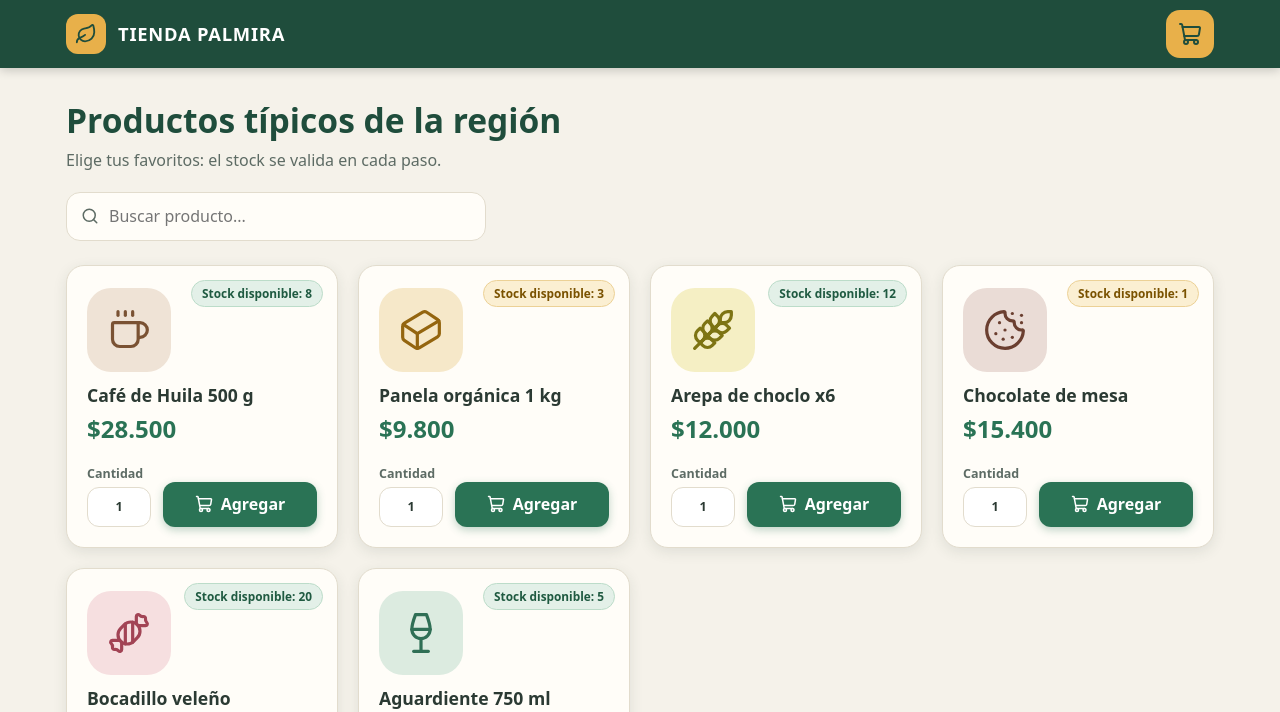
Test case: Reto carrito de compras - casos de prueba del instructor › 8. − con cantidad 1 pide confirmar y al confirmar elimina y recalcula
What coordinates should you click on to do the following:
click the button "Agregar" below "$15.400"
I would click on:
 (1116, 504)
Its box is [1039, 482, 1193, 527].
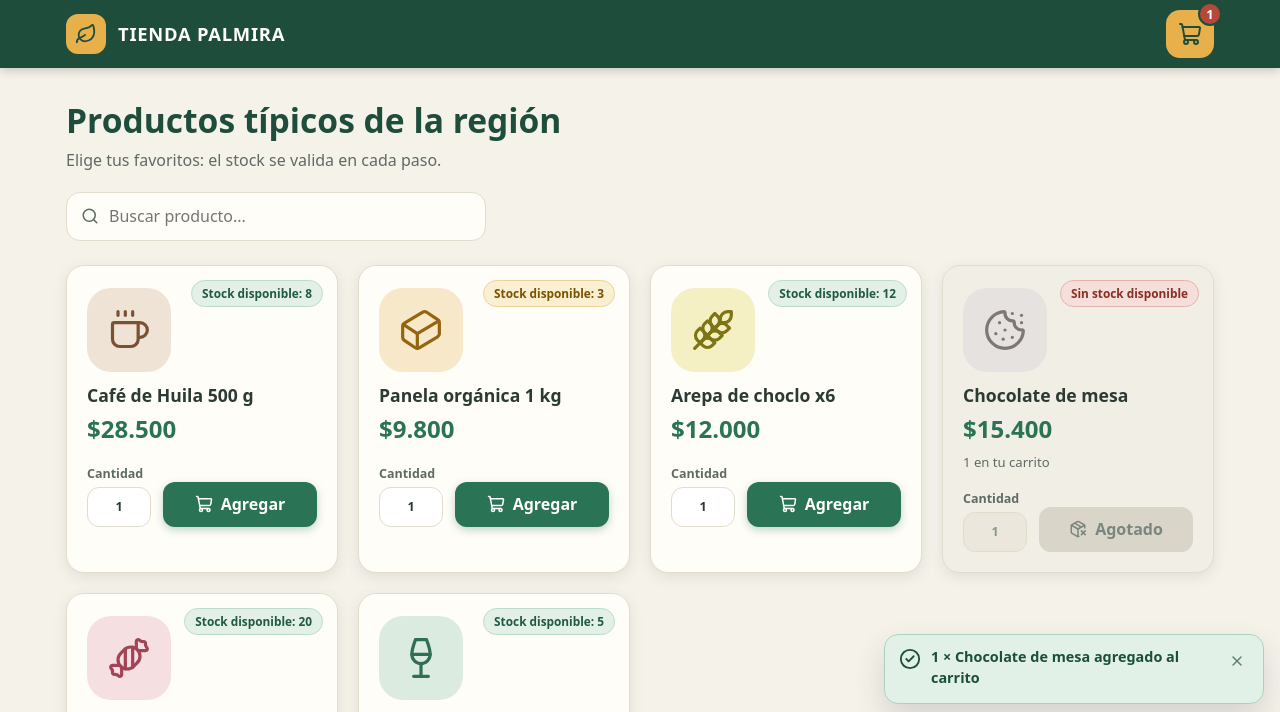
What coordinates should you click on to do the following:
click the button named "abrir carrito"
I would click on:
 (1190, 34)
Its box is [1166, 10, 1214, 58].
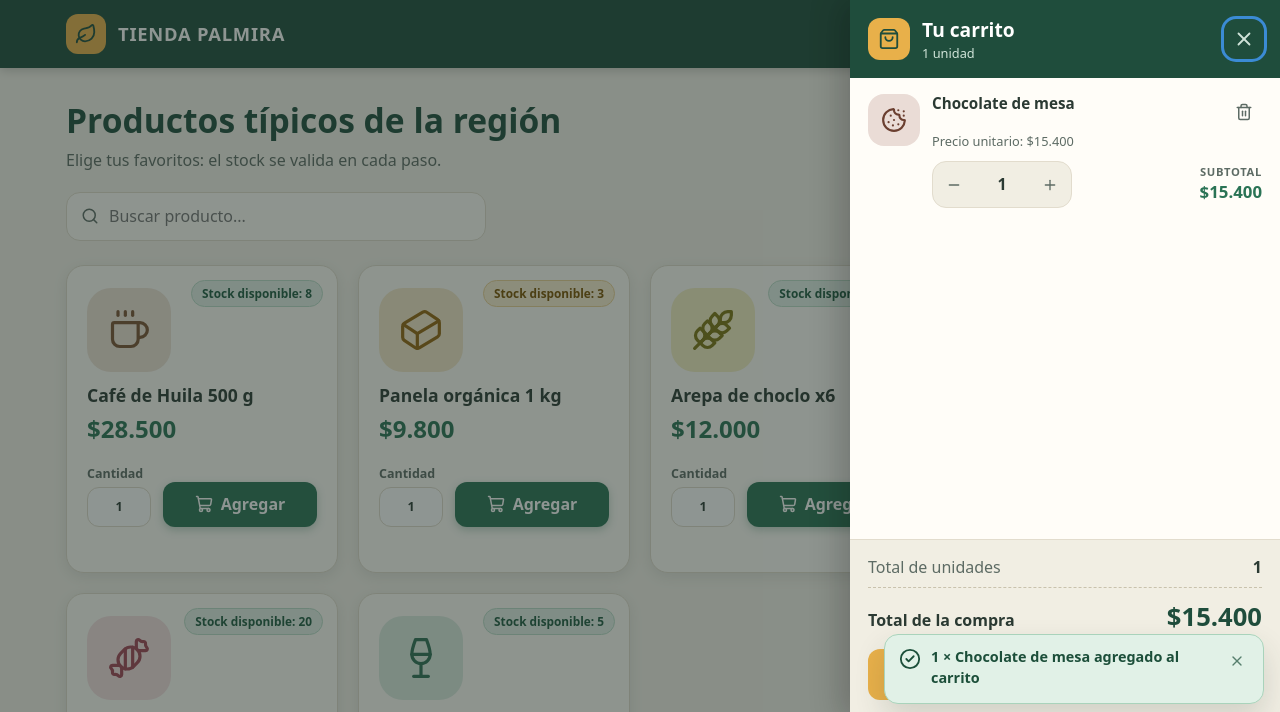
What coordinates should you click on to do the following:
click the button named "disminuir cantidad"
I would click on:
 (954, 184)
Its box is [936, 166, 972, 202].
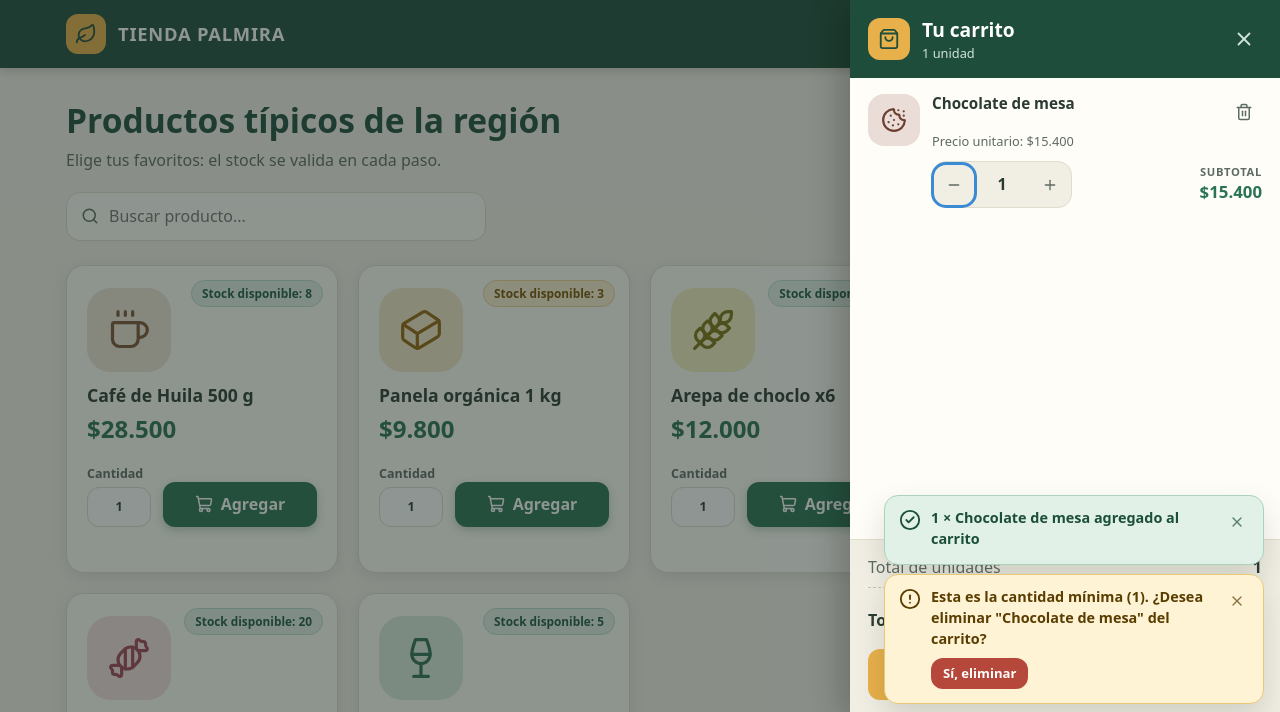
expect the text with test id "total-compra" reads "$15.400": met, box [1167, 599, 1262, 634]
What coordinates should you click on to do the following:
click the button "Sí, eliminar"
I would click on:
 (980, 674)
Its box is [931, 658, 1028, 689].
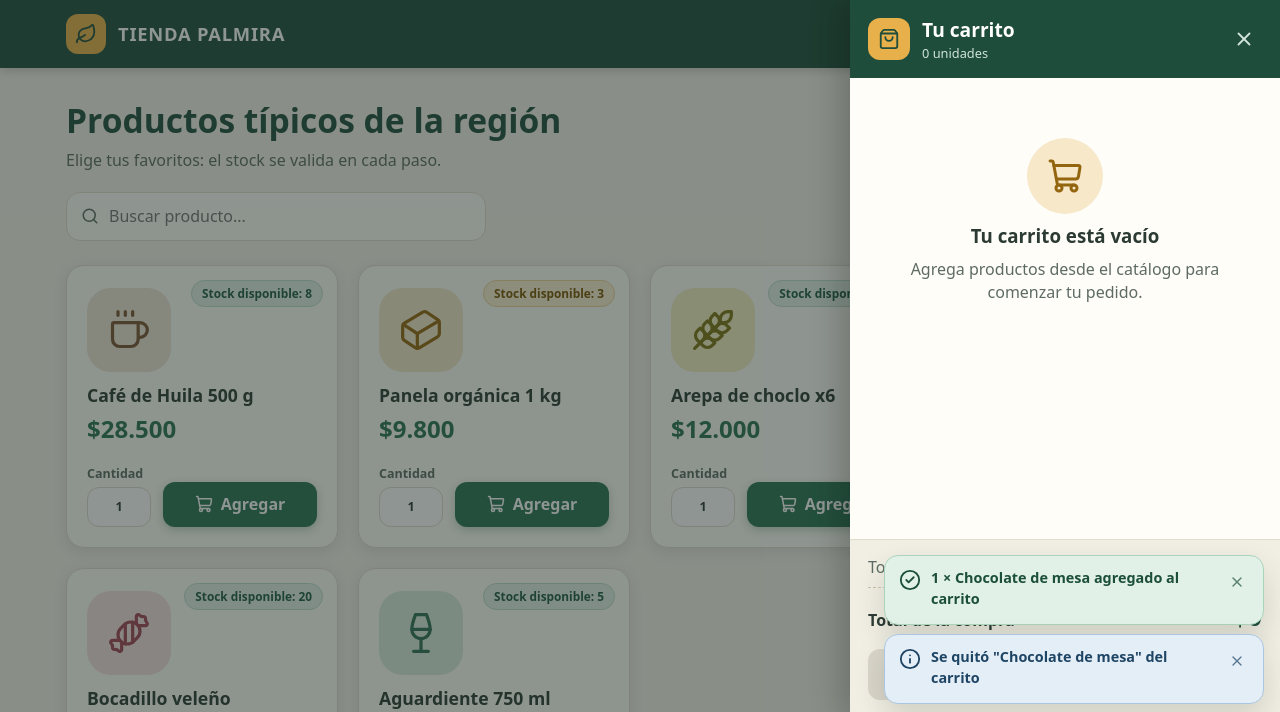
expect the text with test id "subtotal-4" is gone: met
expect the text with test id "total-compra" reads "$0": met, box [1233, 599, 1262, 634]
